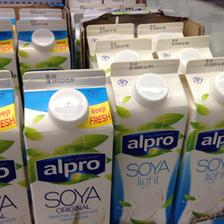Milch: (20, 70, 113, 222), (107, 58, 187, 222), (174, 58, 222, 222)
